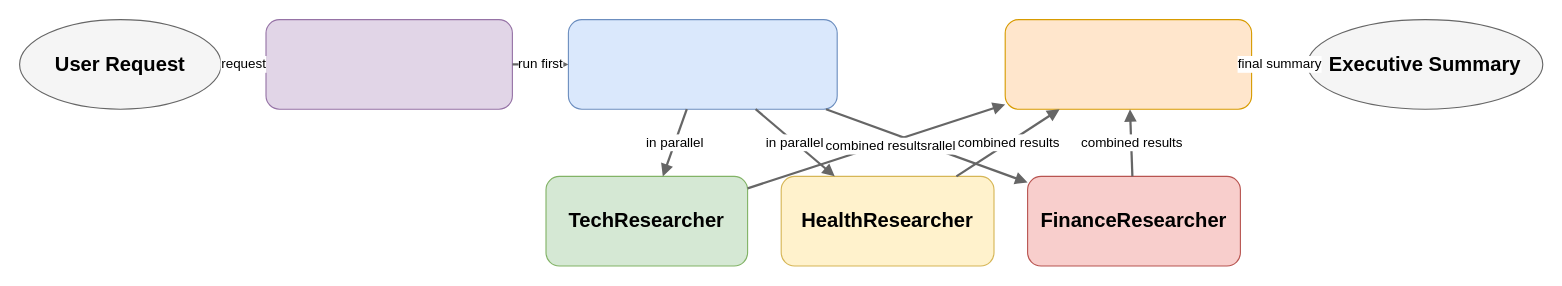
Some shapes in this 1562 by 286 pixel diagram are drawn without their labels. Each missing label, with the centre of its shape:
"AggregatorAgent" goes at [1128,63].
"ParallelResearchTeam (ParallelAgent)" goes at [702,63].
"ResearchSystem (SequentialAgent)" goes at [388,63].
